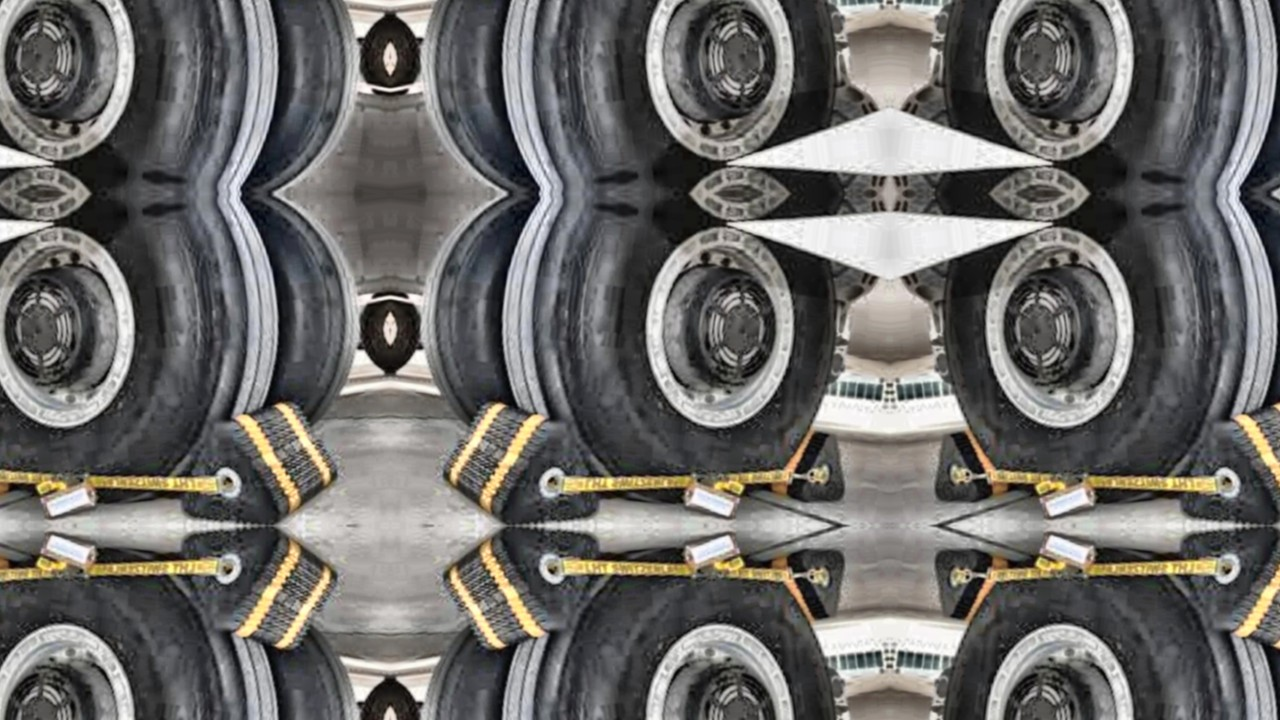chock: (166, 396, 345, 526), (435, 396, 614, 526), (166, 526, 345, 656), (435, 526, 614, 656), (1166, 396, 1280, 526), (1166, 526, 1280, 656), (782, 426, 854, 506), (926, 426, 998, 506), (782, 546, 854, 626), (926, 546, 998, 626)
wheel: (471, 195, 863, 511), (917, 195, 1280, 511), (0, 195, 309, 511), (471, 0, 863, 192), (471, 541, 863, 720), (917, 0, 1280, 192), (917, 541, 1280, 720), (0, 0, 309, 192), (0, 541, 309, 720), (226, 194, 370, 431), (410, 194, 554, 431), (226, 0, 370, 194), (410, 0, 554, 194), (226, 621, 370, 720), (410, 621, 554, 720), (1226, 194, 1280, 431), (1226, 0, 1280, 194), (1226, 621, 1280, 720), (355, 9, 390, 87), (390, 9, 425, 87), (355, 300, 390, 378), (390, 300, 425, 378), (355, 674, 390, 720), (390, 674, 425, 720)
